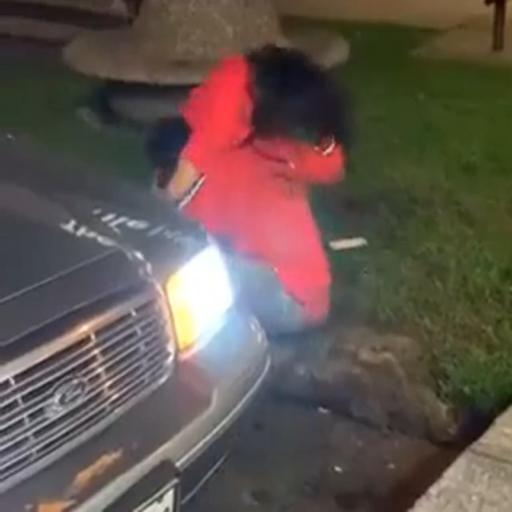violencia: (139, 30, 365, 357)
